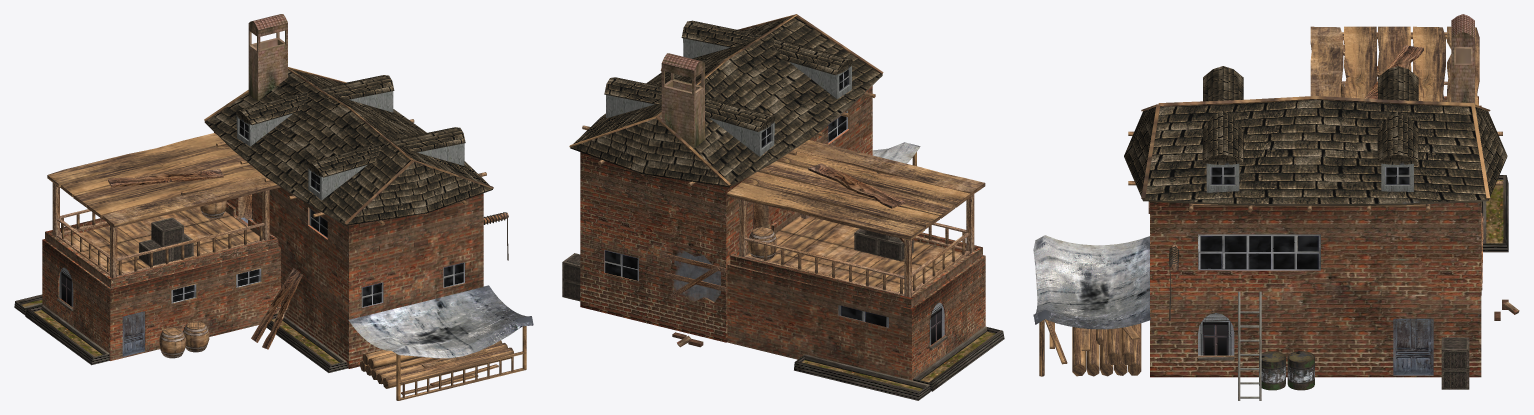
The model's file is house2.fbx.
3 views of the same model, side by side, from view 1: azimuth 30°, elevation 25°; view 2: azimuth 150°, elevation 25°; view 3: azimuth 270°, elevation 25° (orthographic). The views are drawn at different scales.
Parts seen in each view (by area): view 1: house2; view 2: house2; view 3: house2.
Boxes of the visible parts, x1,y1,x2,y2 form: house2: (14,14,533,400); house2: (562,14,1004,400); house2: (1033,14,1519,400).
Size of the model in its own units: 1231 by 792 by 1154.
